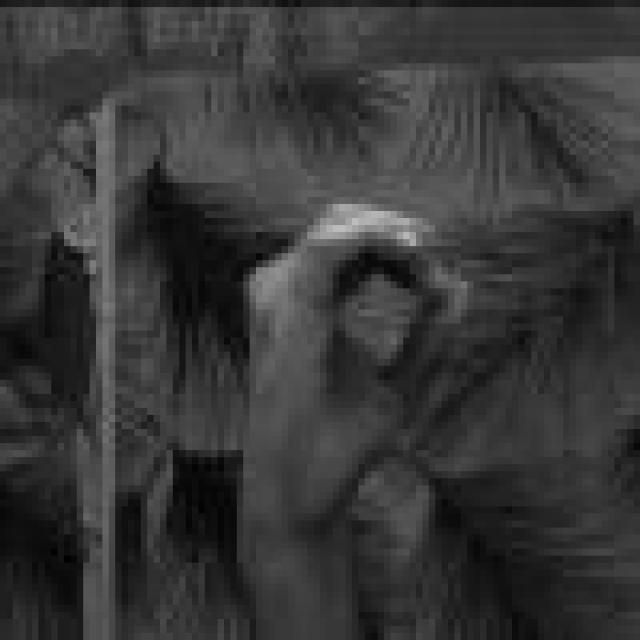O: (234, 200, 476, 510)
